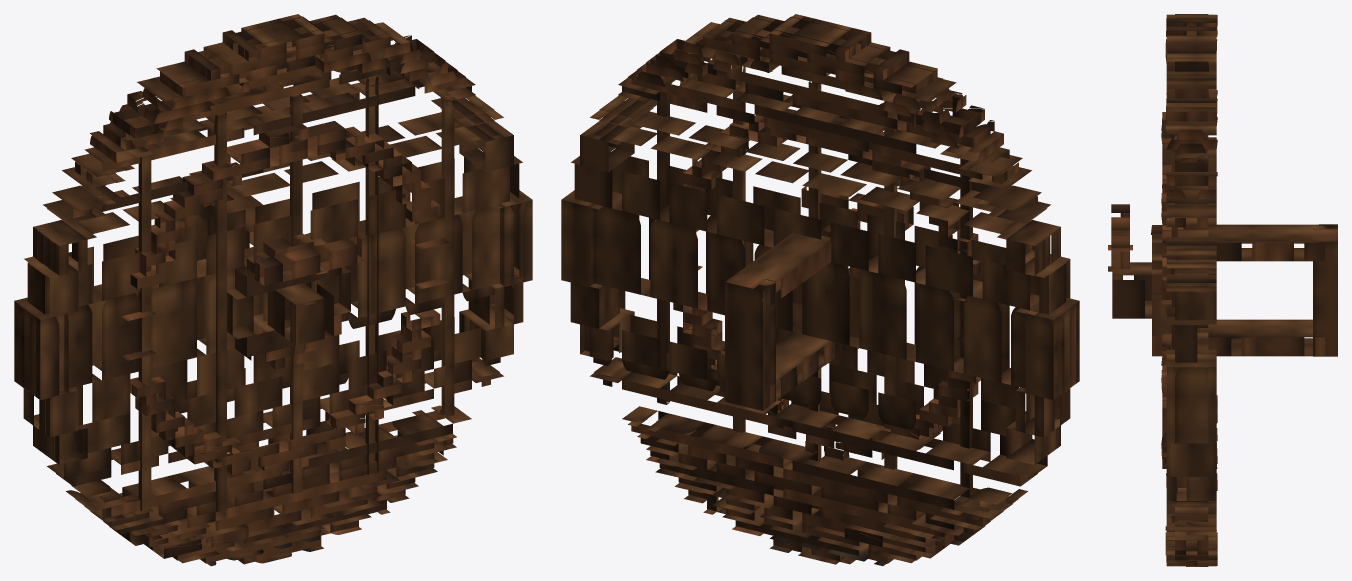
File: mothers_lid.obj
3 renders of one model, left to right at view 1: azimuth 30°, elevation 25°; view 2: azimuth 150°, elevation 25°; view 3: azimuth 270°, elevation 25°, orthographic. The views are drawn at different scales.
Visible parts, largest first — view 1: lit, fire; view 2: lit, fire; view 3: lit, fire.
Part boxes in pixels (x1=…): lit: x1=14, y1=14, x2=532, y2=566; fire: x1=138, y1=75, x2=454, y2=512; lit: x1=561, y1=14, x2=1079, y2=566; fire: x1=657, y1=64, x2=972, y2=497; lit: x1=1108, y1=14, x2=1337, y2=566; fire: x1=1171, y1=135, x2=1177, y2=522.
Bounding box in the file's own units: 1.63 × 1.63 × 0.6875.
